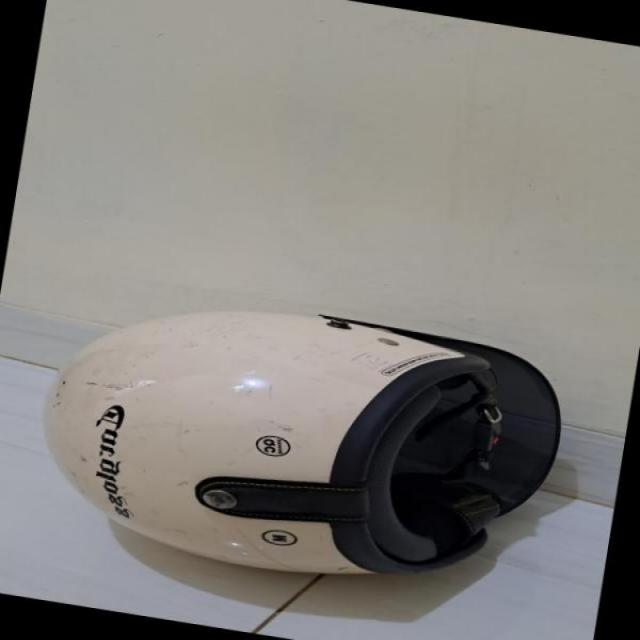Helmet: (41, 255, 566, 583)
